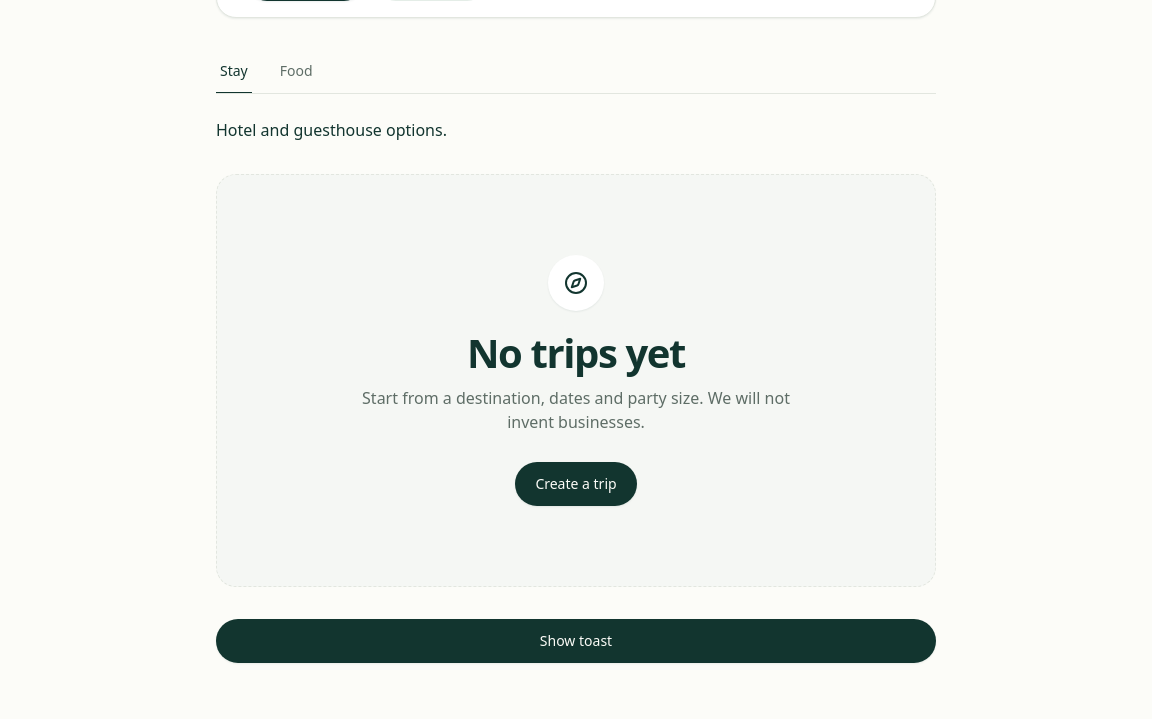
Test: library interactions › opens a toast from the preview
(page scrolled)
Click the button "Show toast". click: [576, 641]
box: [216,619,936,663]
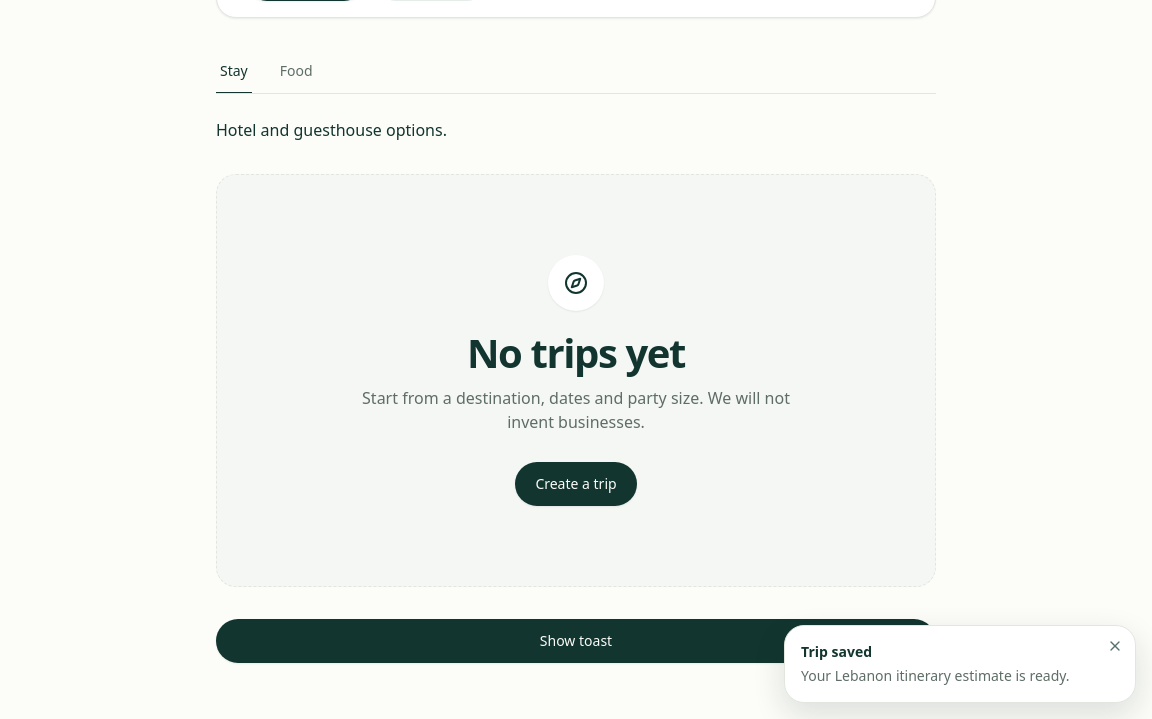
Now the text "Trip saved" is shown, box [801,642,872,661]
